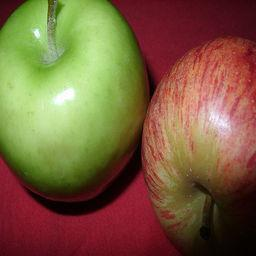apple: (1, 0, 150, 198), (140, 37, 255, 256)
